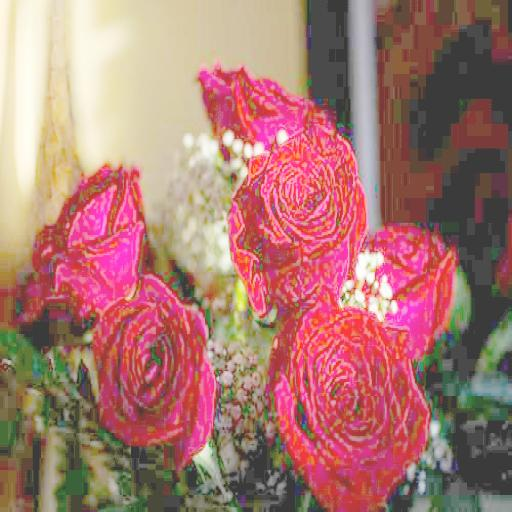rose: (259, 271, 430, 475), (221, 113, 364, 312)
